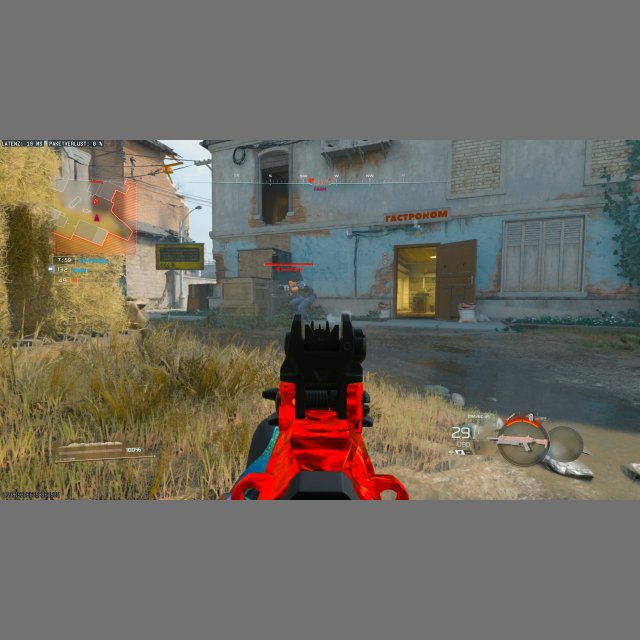head: (288, 279, 297, 288)
player: (283, 278, 316, 311)
